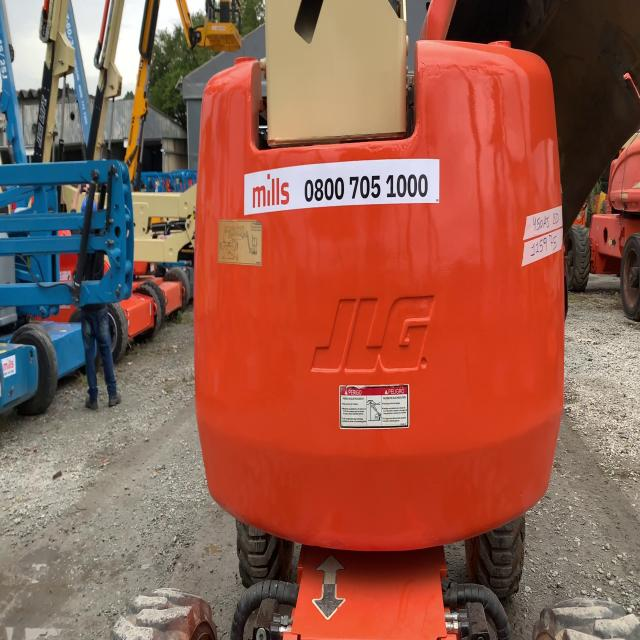Adesivo Longo: (240, 151, 443, 219)
